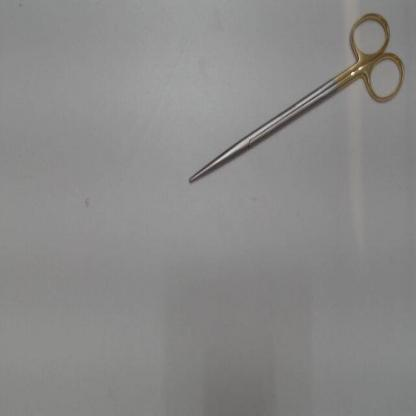7 Metzenbaum Scissors: (188, 11, 406, 185)
